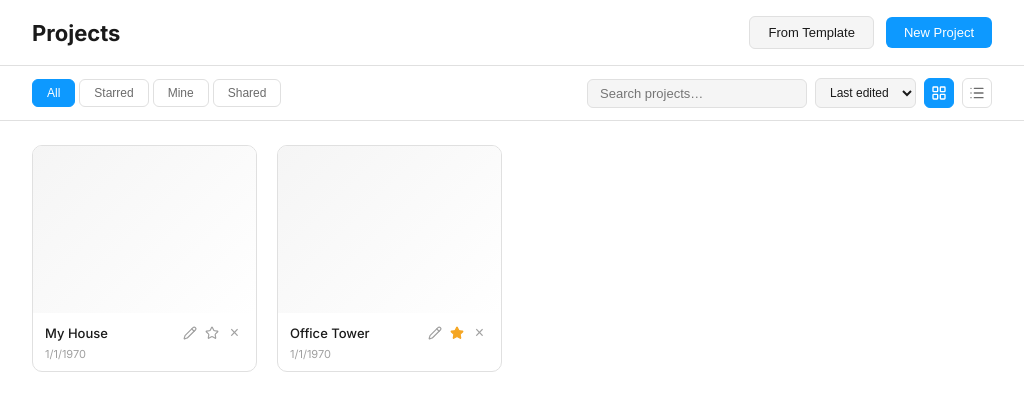
Test: T-SYNC-010: ProjectDashboard › starts the inline rename from the pencil button without opening the project
Click the 1st button named "Rename project".
click(190, 333)  # box [181,324,199,342]
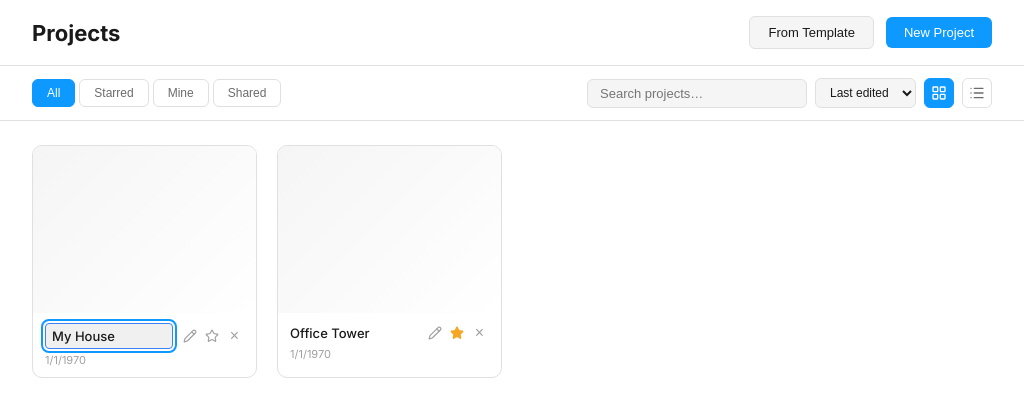
Expected: the 2nd field holds "My House", [45,323,173,349]
